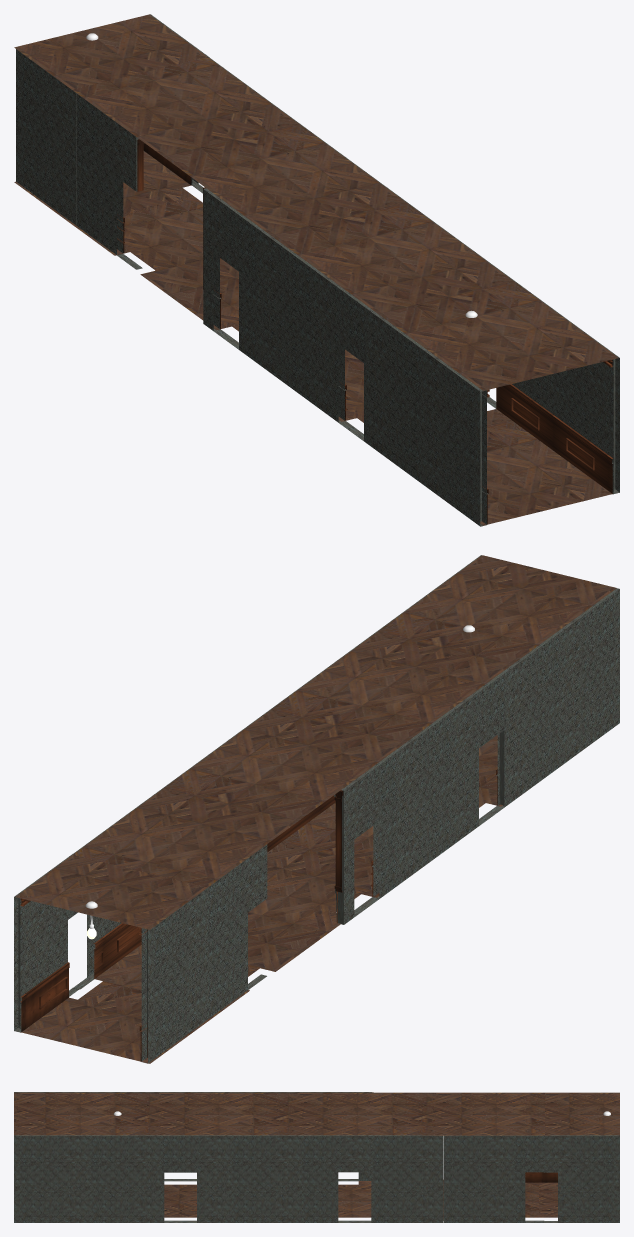
File: hall.glb
3 views of the same model, one above another, from view 1: azimuth 30°, elevation 25°; view 2: azimuth 150°, elevation 25°; view 3: azimuth 270°, elevation 25° (orthographic). The views are drawn at different scales.
Size of the model in its own units: 4.12 by 3.9 by 24.
6 materials, 4 textured.
